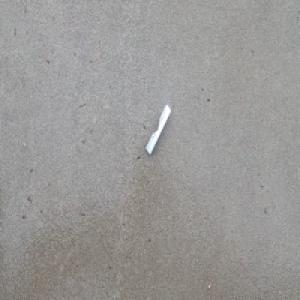ClampPart: (145, 103, 171, 156)
